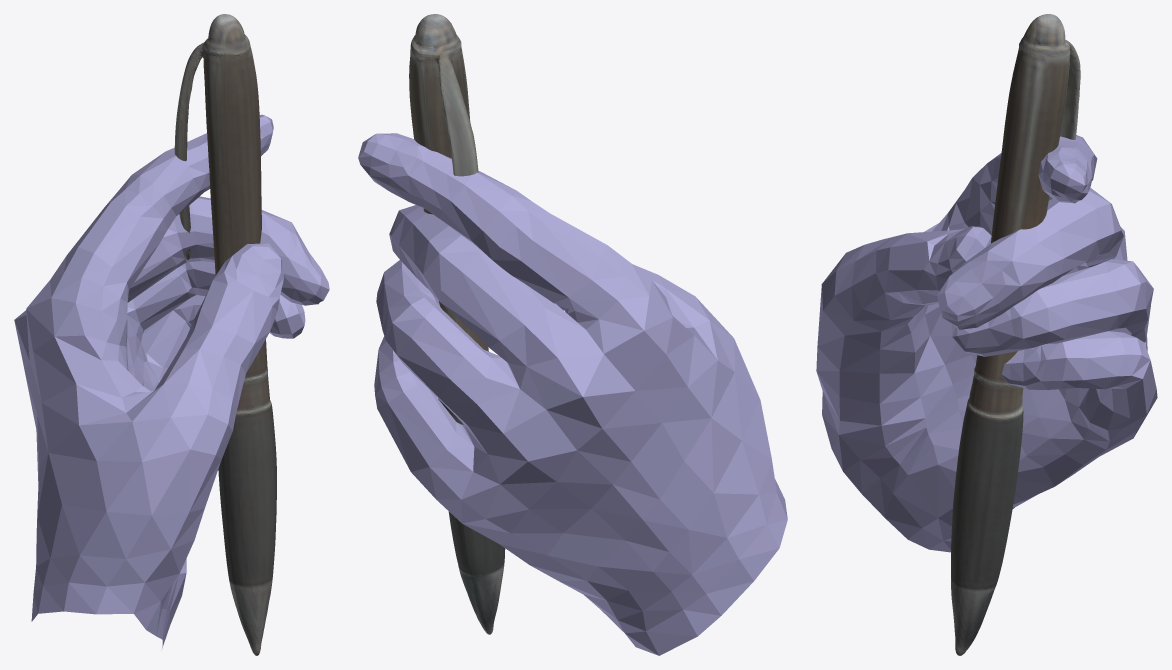
The model's file is frame_0049_source_000049_hand_object.glb.
3 views of the same model, side by side, from view 1: azimuth 30°, elevation 25°; view 2: azimuth 150°, elevation 25°; view 3: azimuth 270°, elevation 25° (orthographic). The views are drawn at different scales.
Visible parts, largest first — view 1: world; view 2: world; view 3: world.
Boxes of the visible parts, x1,y1,x2,y2 form: world: (14,14,329,655); world: (358,14,787,655); world: (816,14,1157,655).
Bounding box in the file's own units: 0.1035 × 0.1906 × 0.0914.
